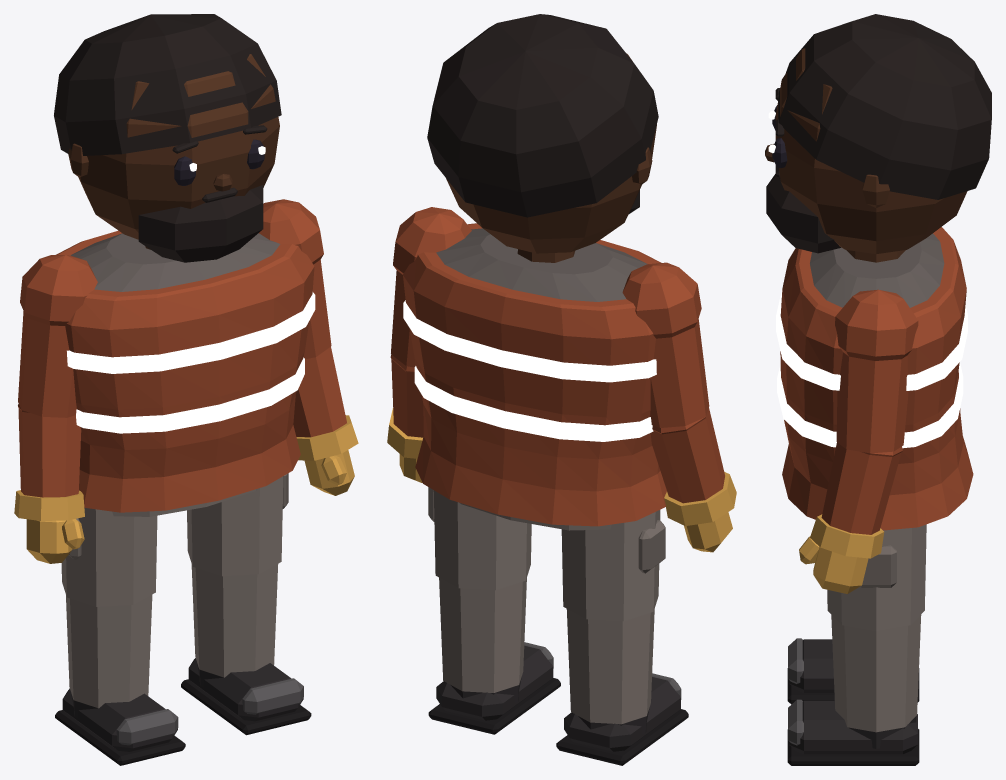
The model's file is emb-k2.glb.
3 renders of one model, left to right at view 1: azimuth 30°, elevation 25°; view 2: azimuth 150°, elevation 25°; view 3: azimuth 270°, elevation 25°, orthographic.
Visible parts, largest first — view 1: jacke, haare, bein_r, bein_l, arm_r, kopf, arm_l, signalstreifen, bart, torso, schuh_r, schuh_l (+4 smaller); view 2: jacke, haare, bein_r, bein_l, arm_r, signalstreifen, torso, arm_l, kopf, schuh_l, schuh_r, hand_r; view 3: haare, jacke, arm_l, bein_l, kopf, schuh_l, torso, signalstreifen, schuh_r, bart, hand_l, gesicht (+1 smaller).
Part boxes in pixels (left/top/right/bottom): jacke: left=56, top=230, right=314, bottom=512; haare: left=54, top=14, right=281, bottom=155; bein_r: left=61, top=507, right=157, bottom=708; bein_l: left=187, top=473, right=288, bottom=677; arm_r: left=14, top=255, right=97, bottom=520; kopf: left=68, top=54, right=279, bottom=239; arm_l: left=259, top=199, right=358, bottom=460; signalstreifen: left=67, top=292, right=315, bottom=433; bart: left=138, top=185, right=263, bottom=262; torso: left=71, top=233, right=280, bottom=291; schuh_r: left=55, top=688, right=185, bottom=765; schuh_l: left=181, top=658, right=311, bottom=735; jacke: left=403, top=223, right=666, bottom=526; haare: left=427, top=14, right=658, bottom=217; bein_r: left=561, top=510, right=665, bottom=724; bein_l: left=428, top=487, right=531, bottom=692; arm_r: left=622, top=262, right=736, bottom=525; signalstreifen: left=403, top=300, right=656, bottom=441; torso: left=436, top=228, right=647, bottom=301; arm_l: left=387, top=207, right=471, bottom=458; kopf: left=446, top=53, right=656, bottom=253; schuh_l: left=428, top=642, right=560, bottom=734; schuh_r: left=556, top=673, right=688, bottom=765; hand_r: left=684, top=512, right=732, bottom=552; haare: left=778, top=14, right=991, bottom=199; jacke: left=780, top=227, right=973, bottom=530; arm_l: left=810, top=289, right=918, bottom=558; bein_l: left=827, top=524, right=926, bottom=732; kopf: left=775, top=48, right=967, bottom=254; schuh_l: left=787, top=699, right=919, bottom=765; torso: left=810, top=233, right=944, bottom=307; signalstreifen: left=776, top=288, right=967, bottom=448; schuh_r: left=787, top=638, right=919, bottom=704; bart: left=766, top=165, right=840, bottom=253; hand_l: left=799, top=536, right=868, bottom=593; gesicht: left=765, top=88, right=787, bottom=167.
Bounding box in the file's own units: 0.0132 × 0.0258 × 0.00769.
